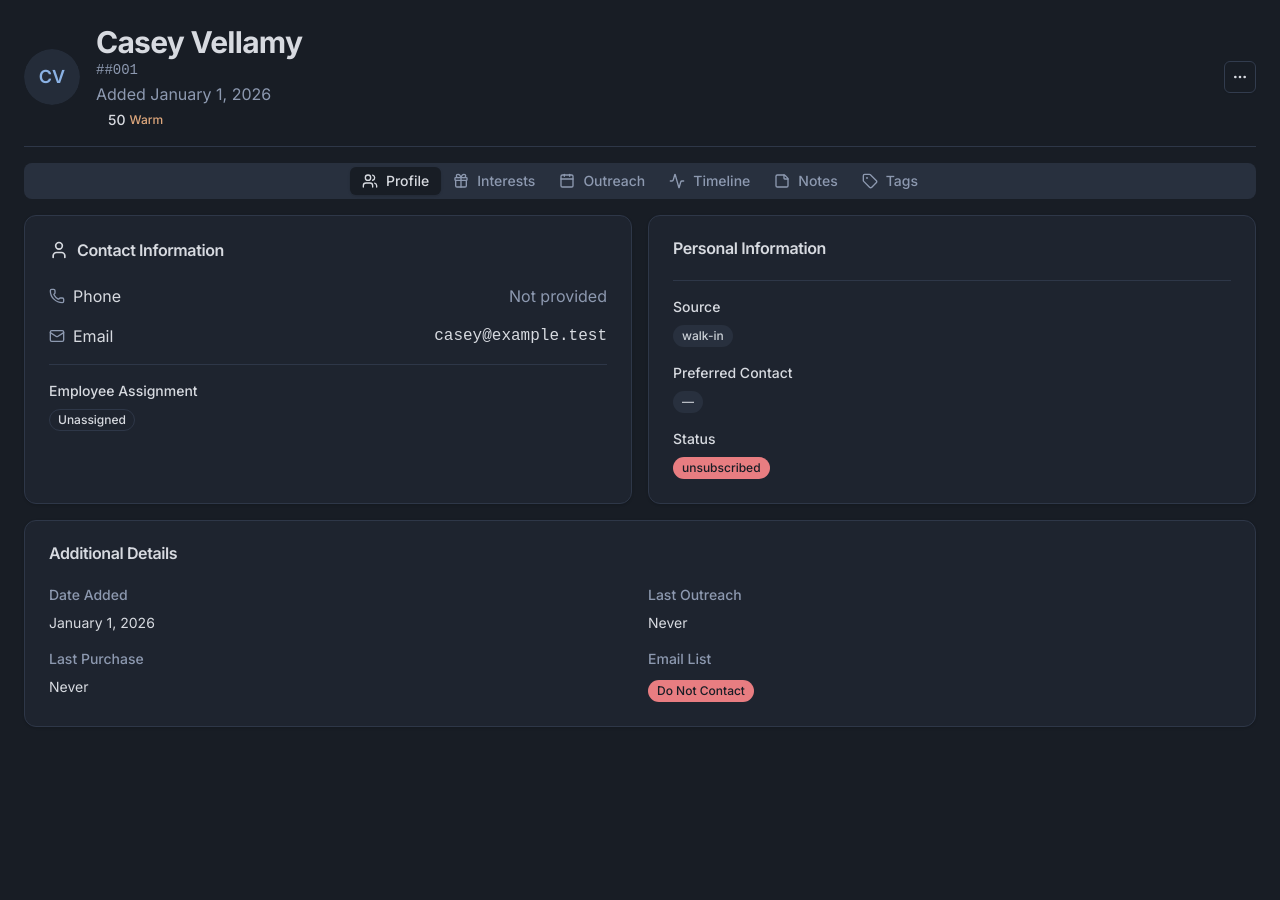
ClientDetailTabs optimistic toggles › resubscribe › flips unsubscribed menu items to active instantly pre-await, toasts "Customer resubscribed"
Click the button named "Actions" at coordinates (1240, 77), box [1224,61,1256,93]
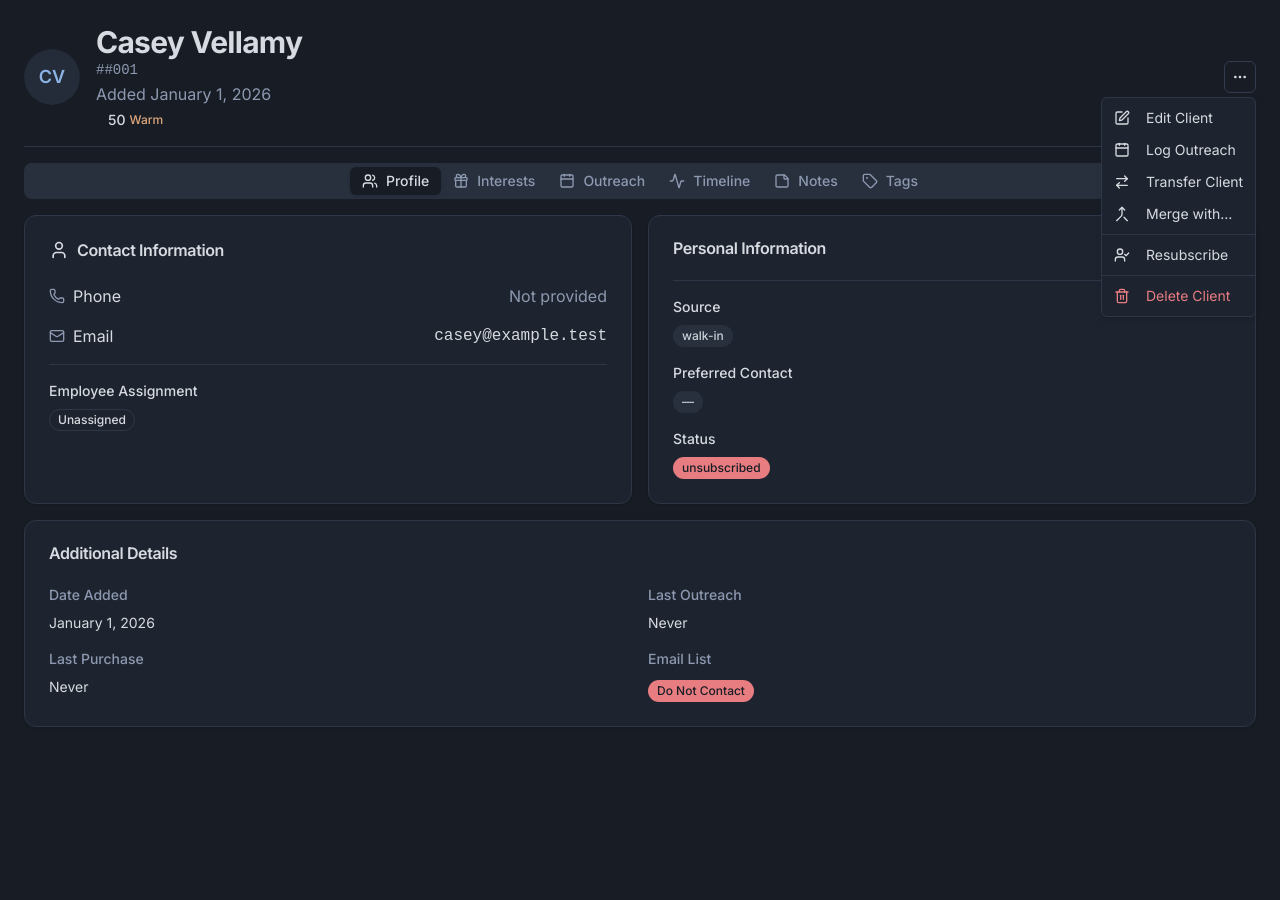
Expected: the menu item "Ban Customer" is not shown
Click the menu item "Resubscribe" at coordinates (1171, 254), box [1114,246,1228,263]
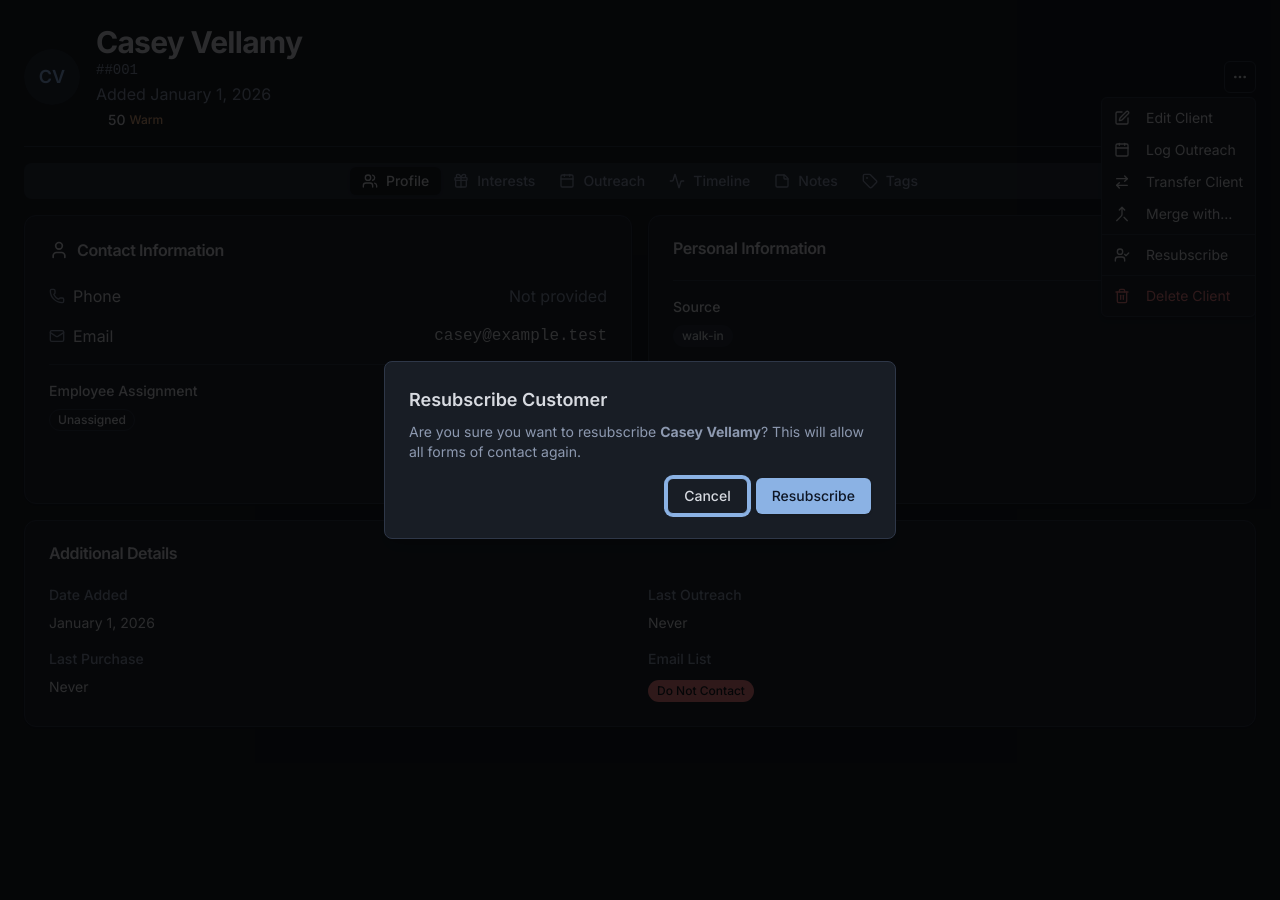
Click the button "Resubscribe" at coordinates (813, 496), box [756,478,871,514]
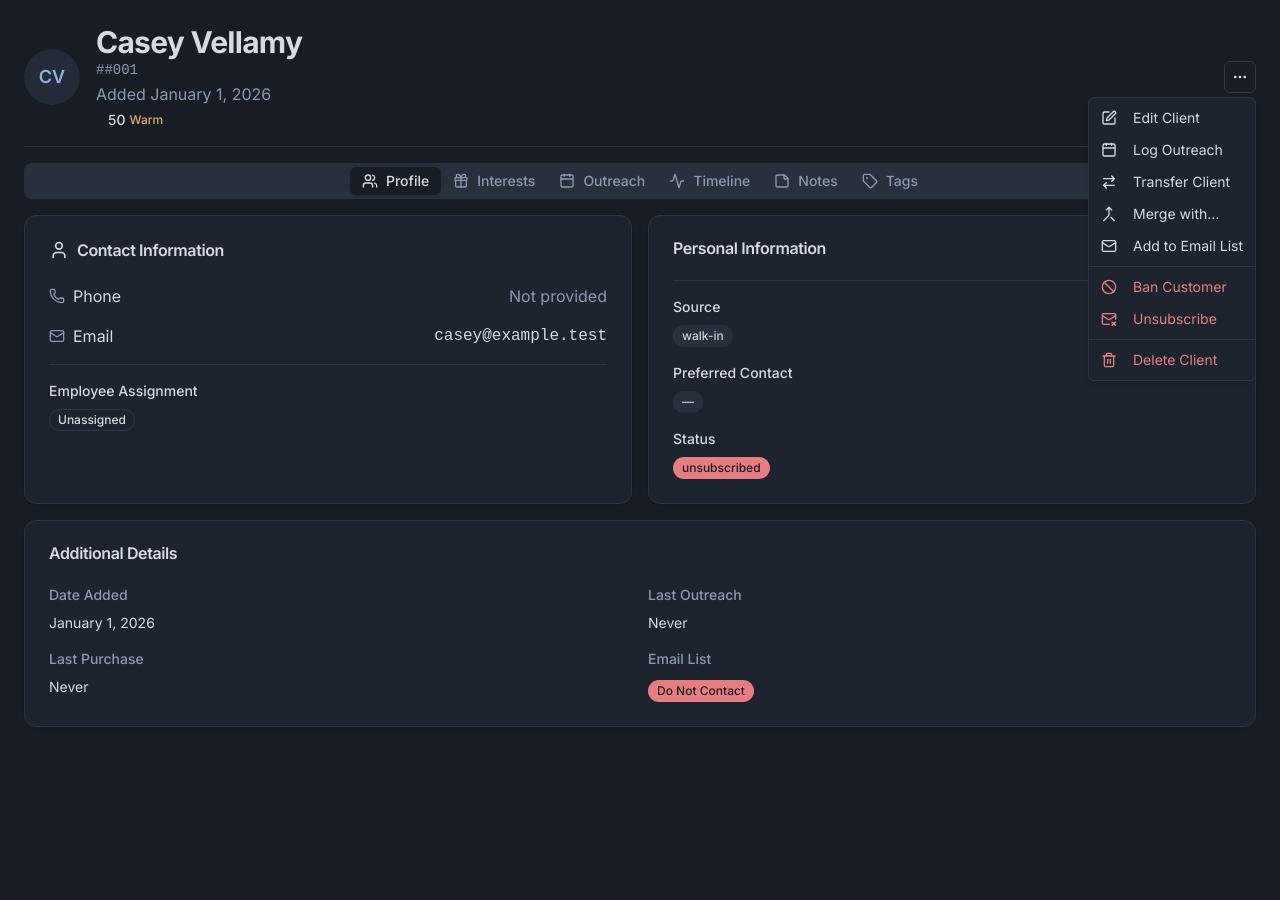
Result: the menu item "Resubscribe" is gone
Result: the menu item "Ban Customer" is shown at [1101,278,1227,295]
